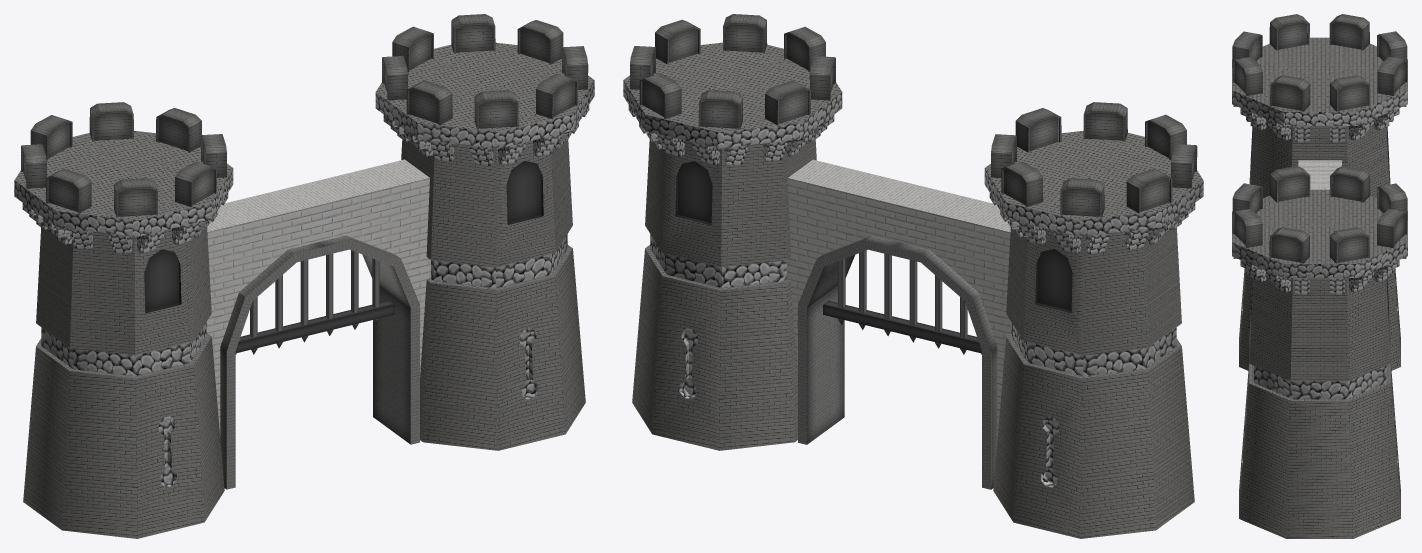
The picture shows the model from 3 angles, left to right: view 1: azimuth 30°, elevation 25°; view 2: azimuth 150°, elevation 25°; view 3: azimuth 270°, elevation 25°; orthographic projection. The views are drawn at different scales.
Visible parts, largest first — view 1: Base, Door; view 2: Base, Door; view 3: Base, Door.
Part boxes in pixels (<box>): Base: <box>14,42,594,538</box>; Door: <box>21,14,589,489</box>; Base: <box>623,42,1203,538</box>; Door: <box>628,14,1197,489</box>; Base: <box>1232,37,1407,538</box>; Door: <box>1232,14,1407,294</box>.
Size of the model in its own units: 638 by 398 by 210.
Materials: 2 (2 with a texture image).
